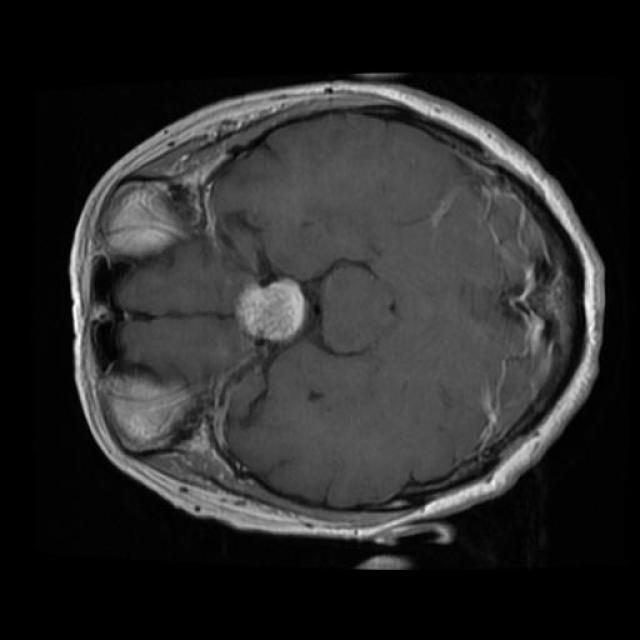Pituitary: (235, 278, 308, 343)
